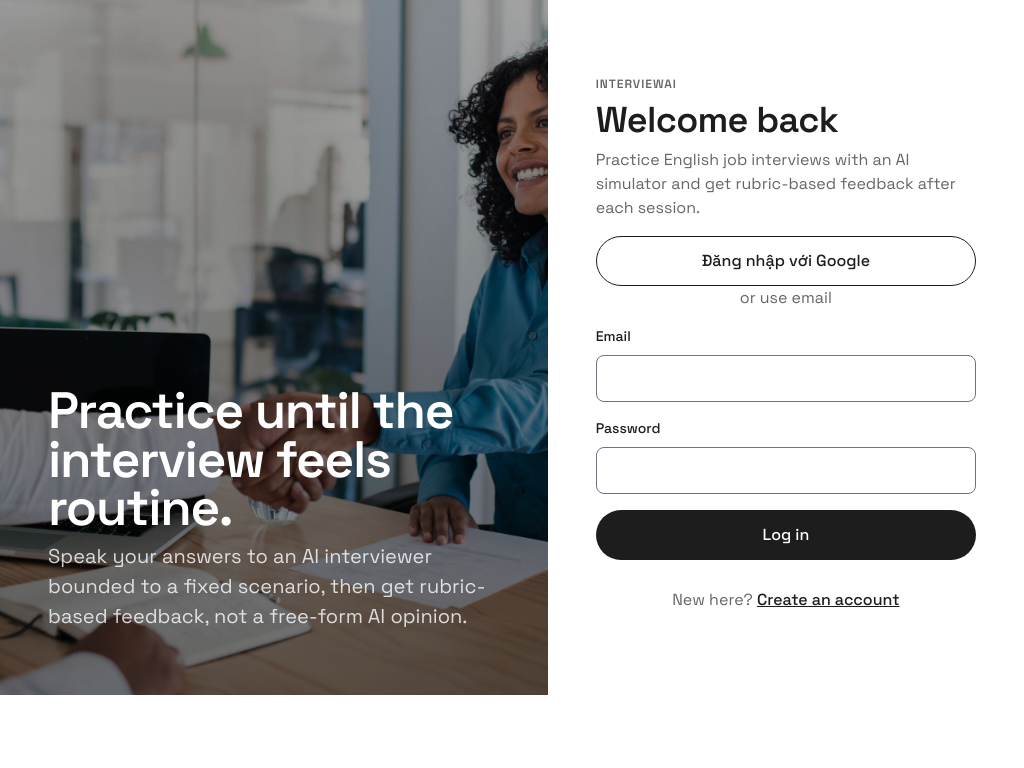
Test: Google sign-in initiation rejection is visible to the user
The image size is (1024, 768).
Click the button "Đăng nhập với Google".
click(786, 261)  # box [596, 236, 976, 286]
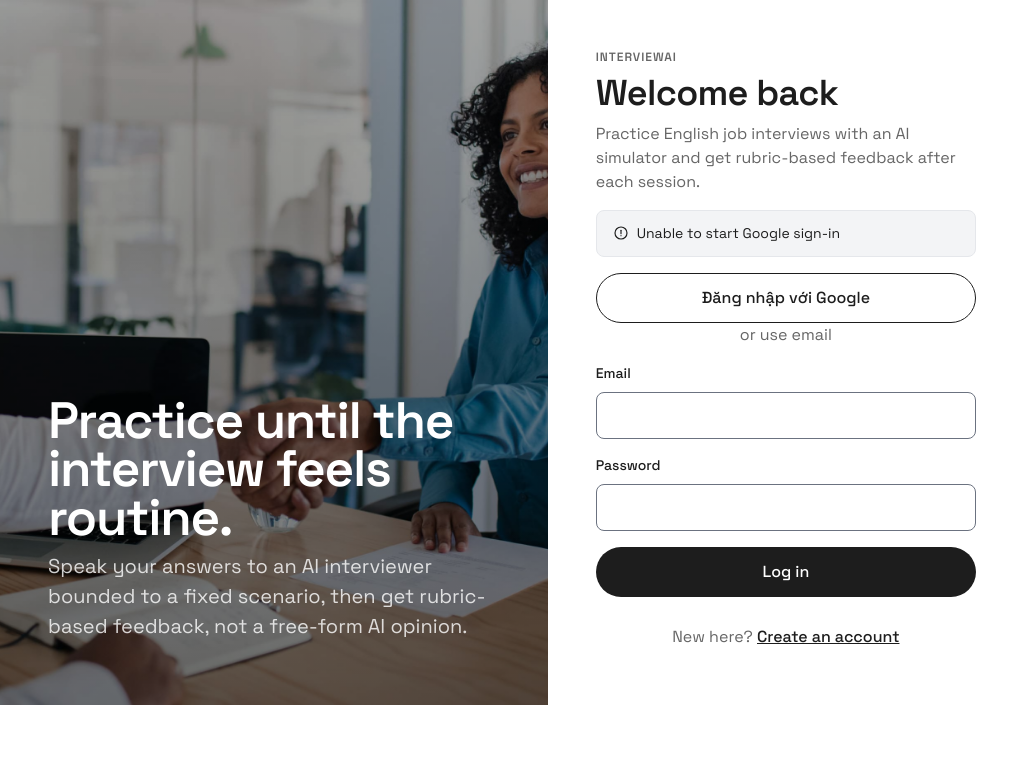
Expected: the message reads "Unable to start Google sign-in", [637, 224, 840, 242]
